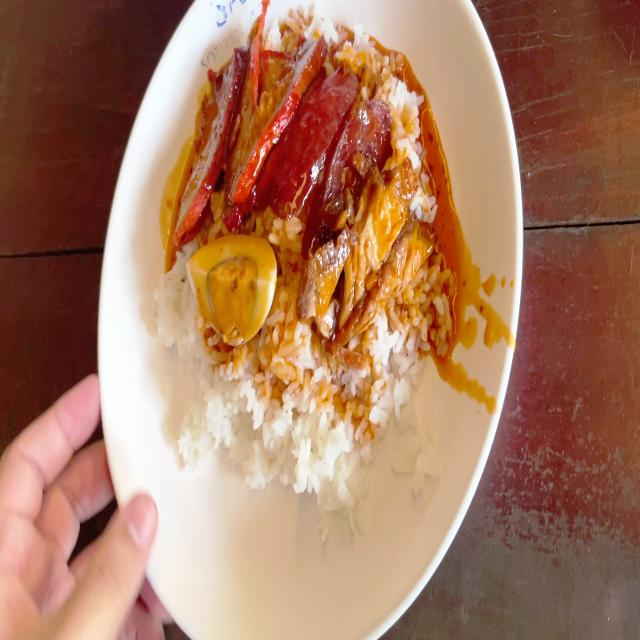boiled_egg: (187, 240, 279, 342)
chainese_sausage: (278, 79, 389, 220)
crispy_pork: (313, 182, 437, 330)
red_pork: (174, 42, 310, 225)
red_pork_and_crispy_pork: (159, 16, 454, 498)
rice: (185, 346, 374, 499), (355, 326, 419, 423)
